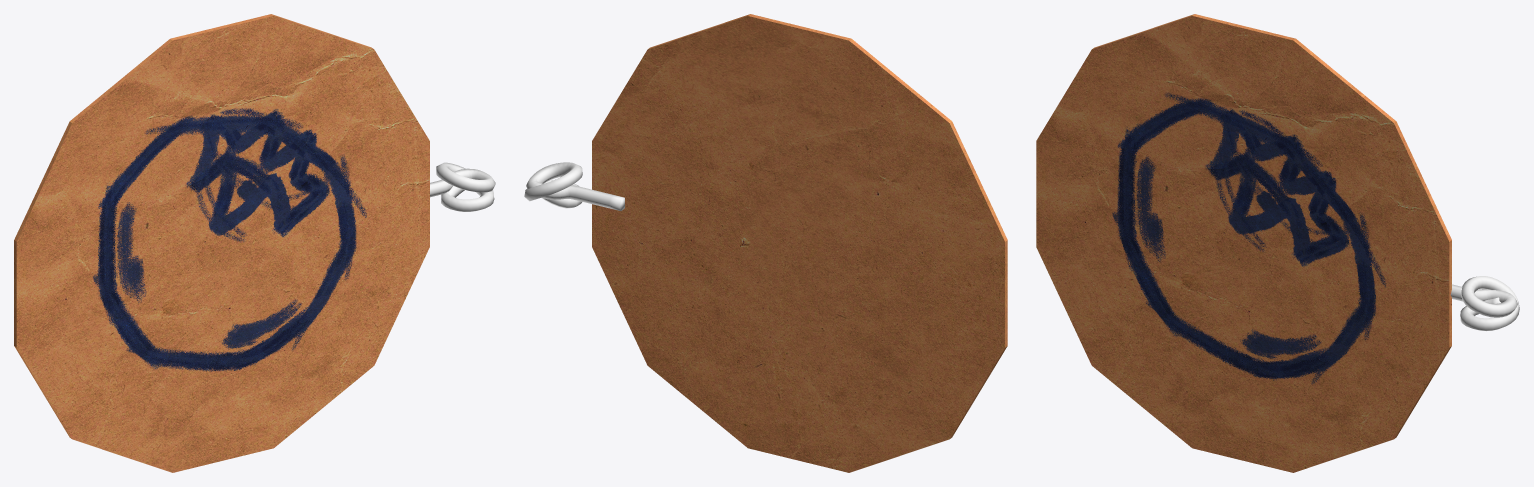
Rendered from Building_Material_Slot.fbx.
3 views of the same model, side by side, from view 1: azimuth 30°, elevation 25°; view 2: azimuth 150°, elevation 25°; view 3: azimuth 330°, elevation 25° (orthographic).
Parts seen in each view (by area): view 1: Rope_Export; view 2: Rope_Export; view 3: Rope_Export.
Boxes of the visible parts, x1,y1,x2,y2 form: Rope_Export: [14, 14, 495, 472]; Rope_Export: [524, 14, 1007, 472]; Rope_Export: [1036, 14, 1519, 472].
Bounding box in the file's own units: 77.8 × 9.03 × 67.65.
